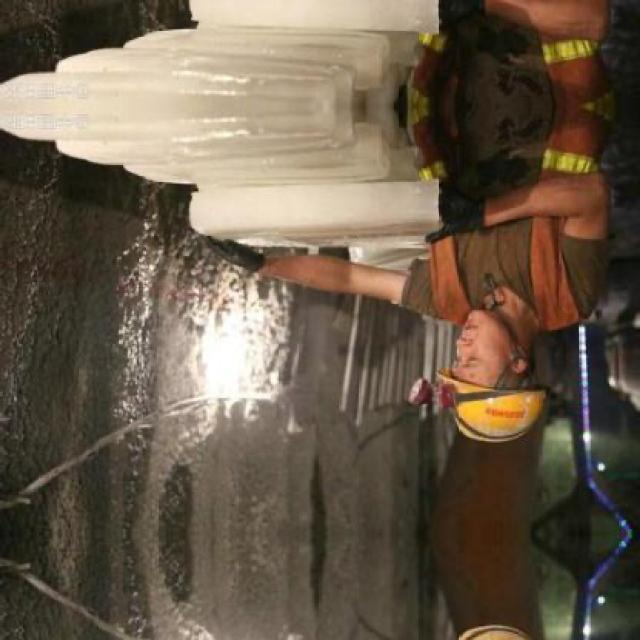con casco: (391, 296, 562, 452)
